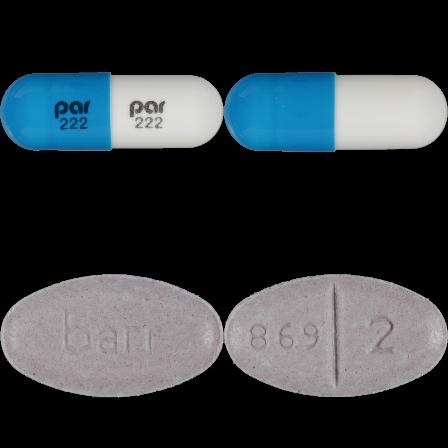42549-492: (0, 0, 224, 224)
